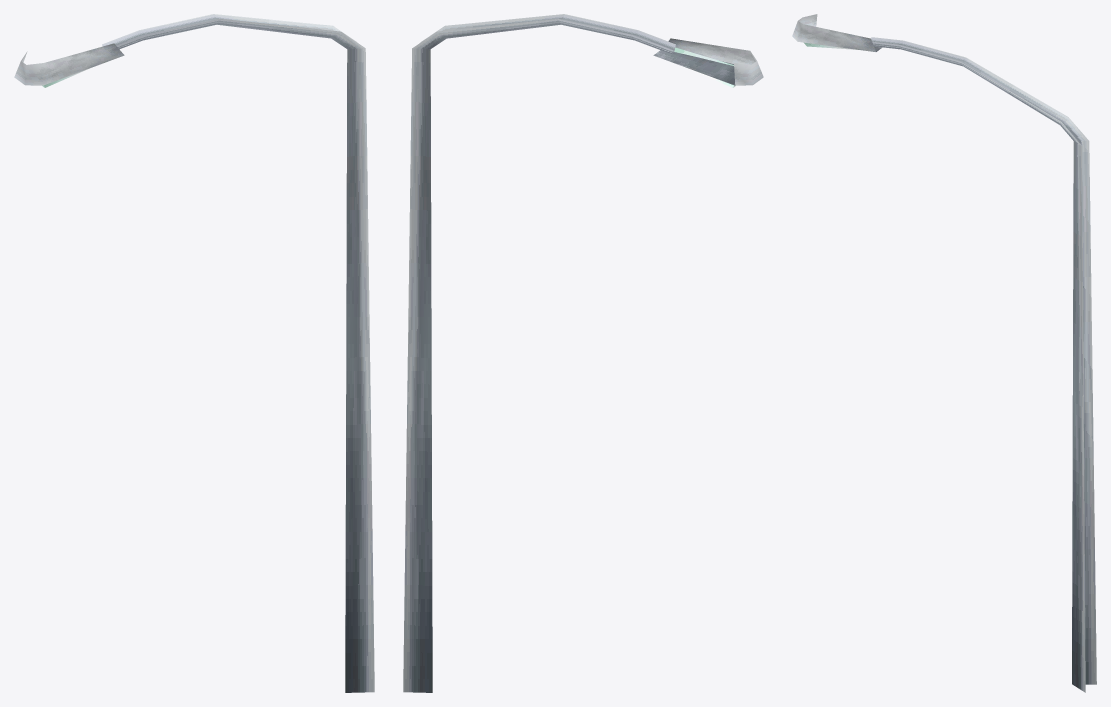
File: stage-flor-p3-405.glb
The picture shows the model from 3 angles, left to right: view 1: azimuth 30°, elevation 25°; view 2: azimuth 150°, elevation 25°; view 3: azimuth 330°, elevation 25°; orthographic projection. The views are drawn at different scales.
Size of the model in its own units: 4.48 by 8.74 by 0.4868.
2 materials, 2 textured.
